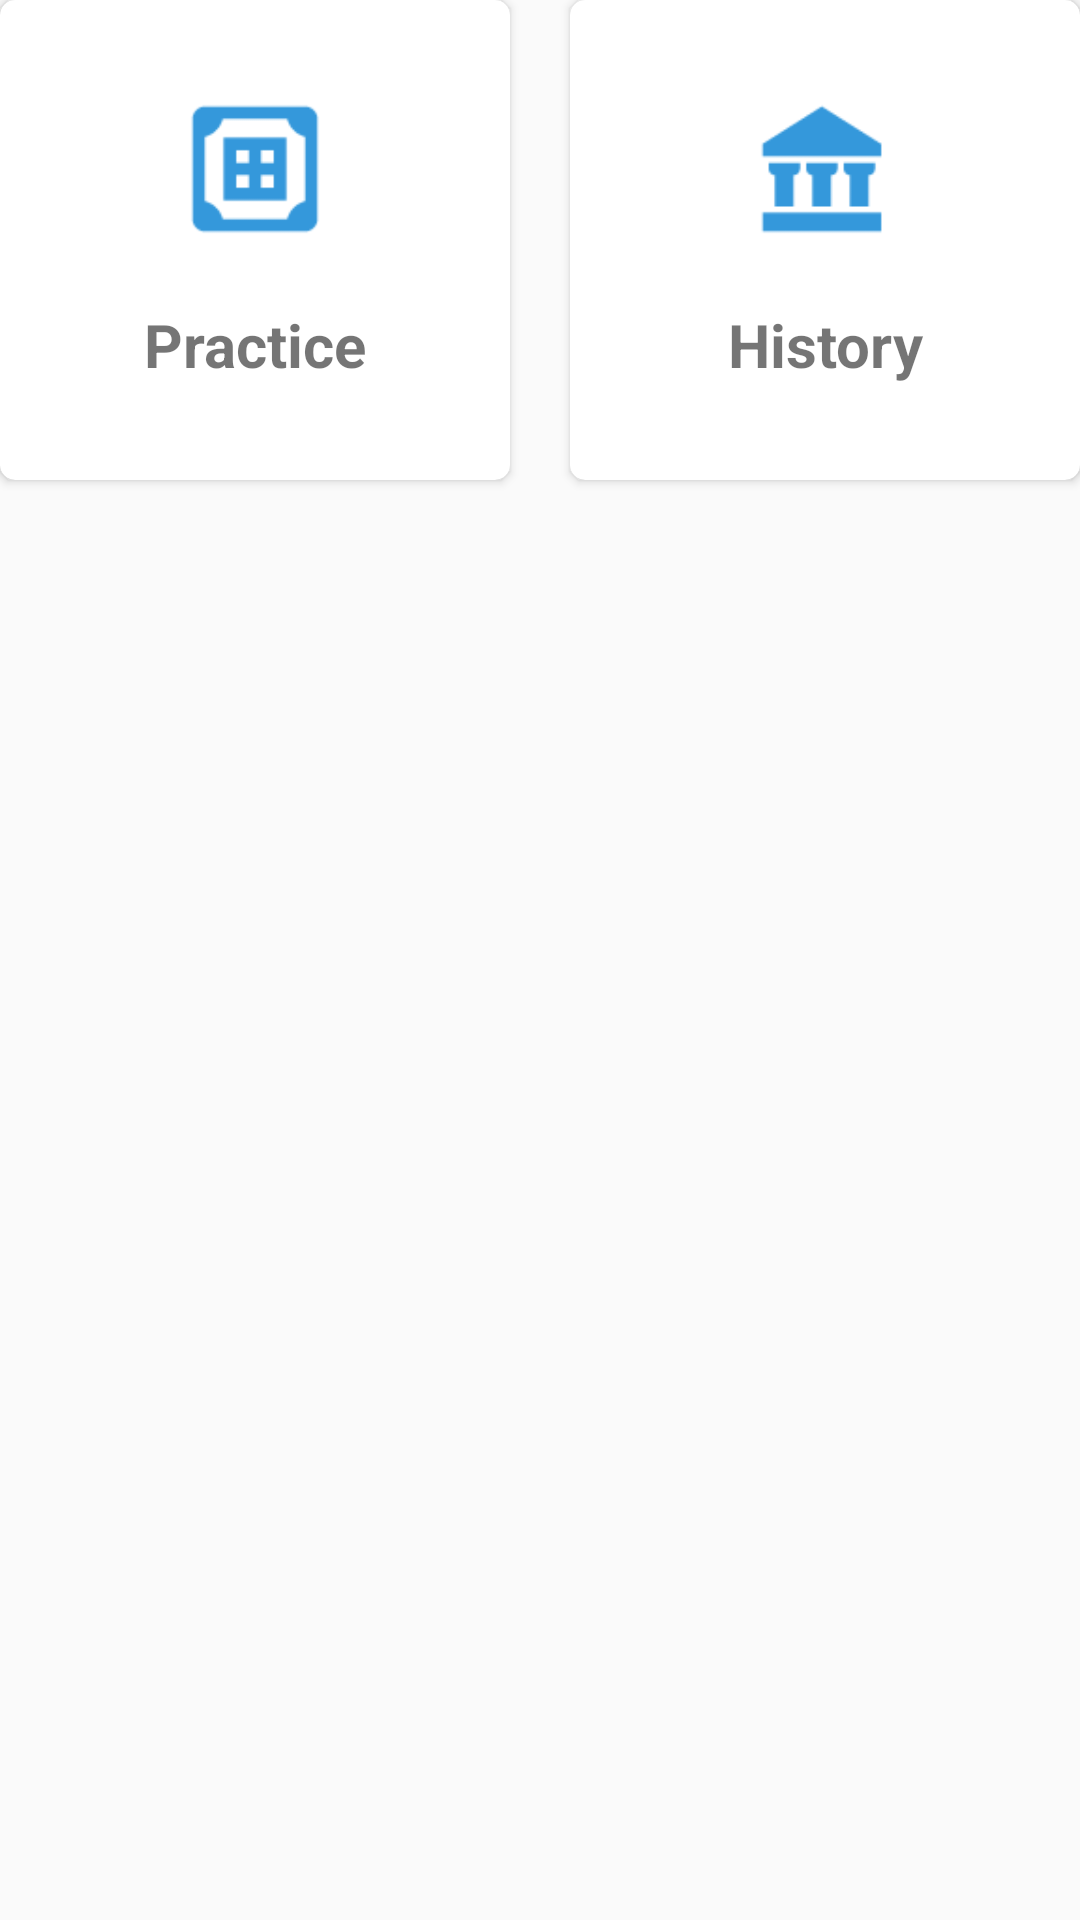

Where to tap for icons on this 1080 x 1920 app screen, as point (x, y):
museum: point (821, 169)
table: point (255, 169)
